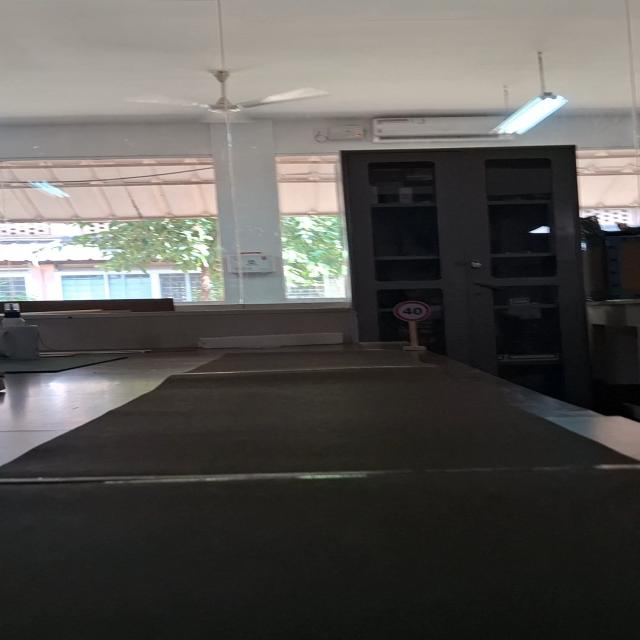Speed40: (391, 299, 432, 322)
